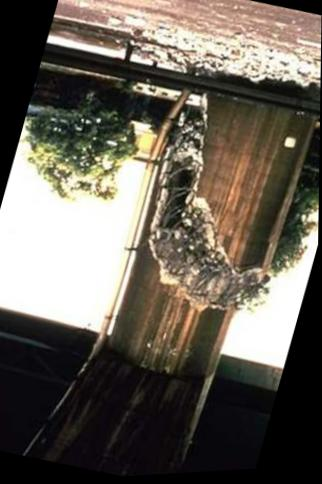damage: (149, 92, 274, 313)
